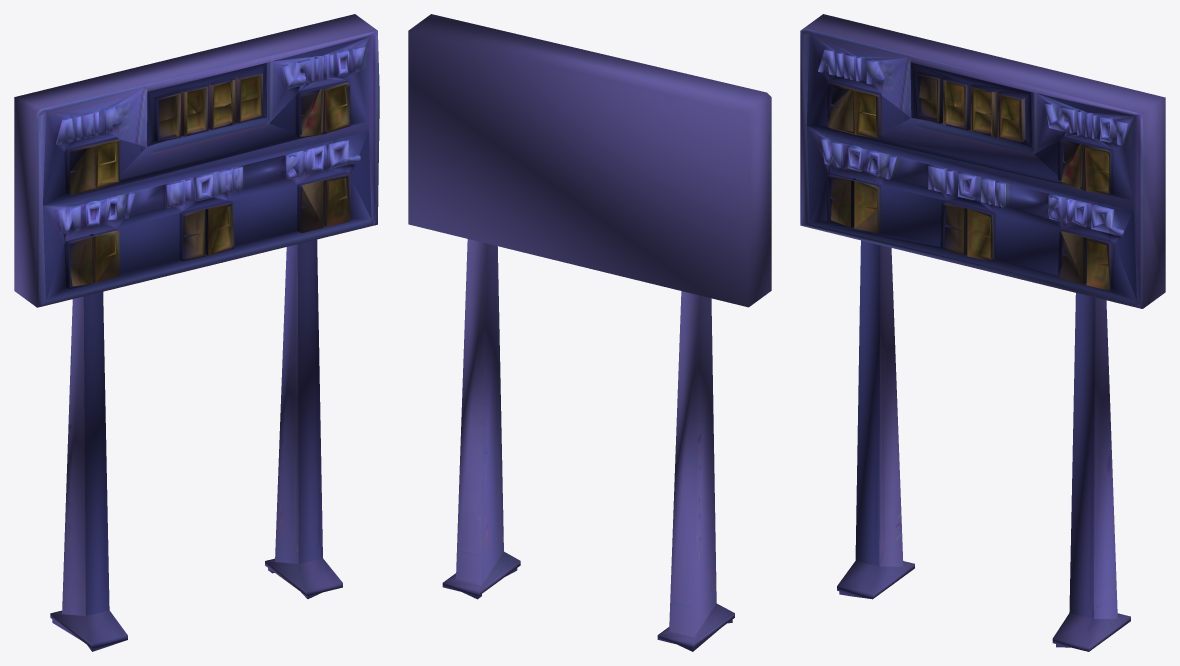
Rendered from model.progressive.glb.
The picture shows the model from 3 angles, left to right: view 1: azimuth 30°, elevation 25°; view 2: azimuth 150°, elevation 25°; view 3: azimuth 330°, elevation 25°; orthographic projection.
Parts seen in each view (by area): view 1: texture_pbr_20250901; view 2: texture_pbr_20250901; view 3: texture_pbr_20250901.
Part boxes in pixels (<box>): texture_pbr_20250901: <box>14,14,379,651</box>; texture_pbr_20250901: <box>408,14,771,651</box>; texture_pbr_20250901: <box>800,14,1165,651</box>.
Size of the model in its own units: 1.24 by 1.89 by 0.2636.
Materials: 1 (1 with a texture image).
